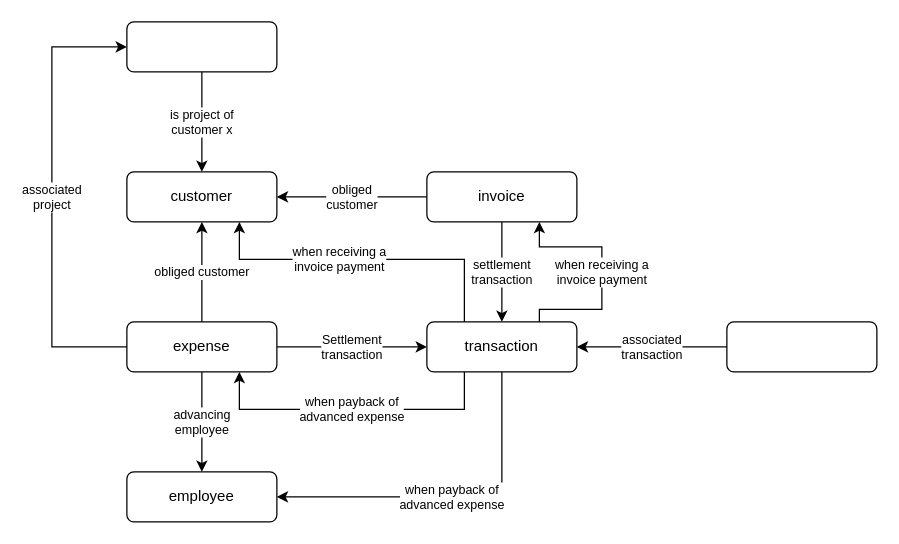
This 899x544 diagram has some shape labels left out. Here are the shapes that lost their labels. From the top down, the centre of each, then its label:
At (x=201, y=46): "project".
At (x=801, y=346): "misc records".
